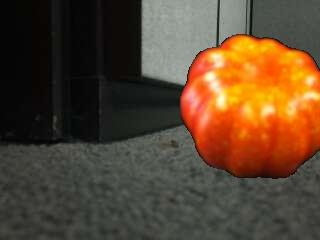Pumpkin: (179, 33, 320, 181)
